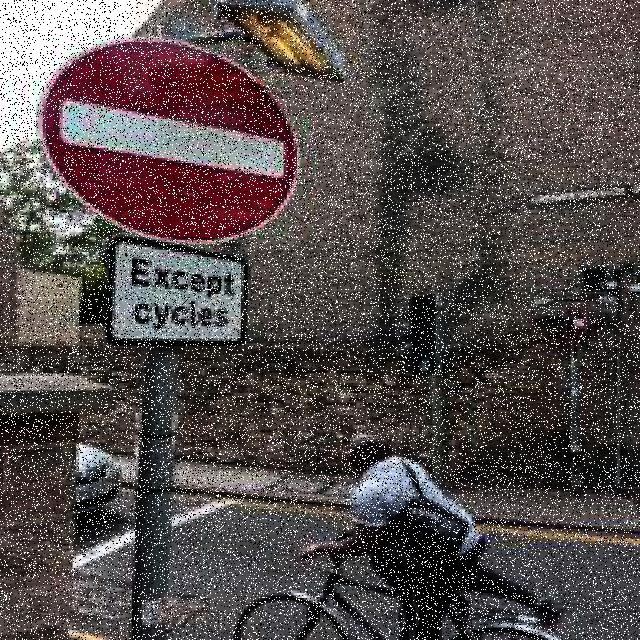no entry: (43, 39, 293, 240)
